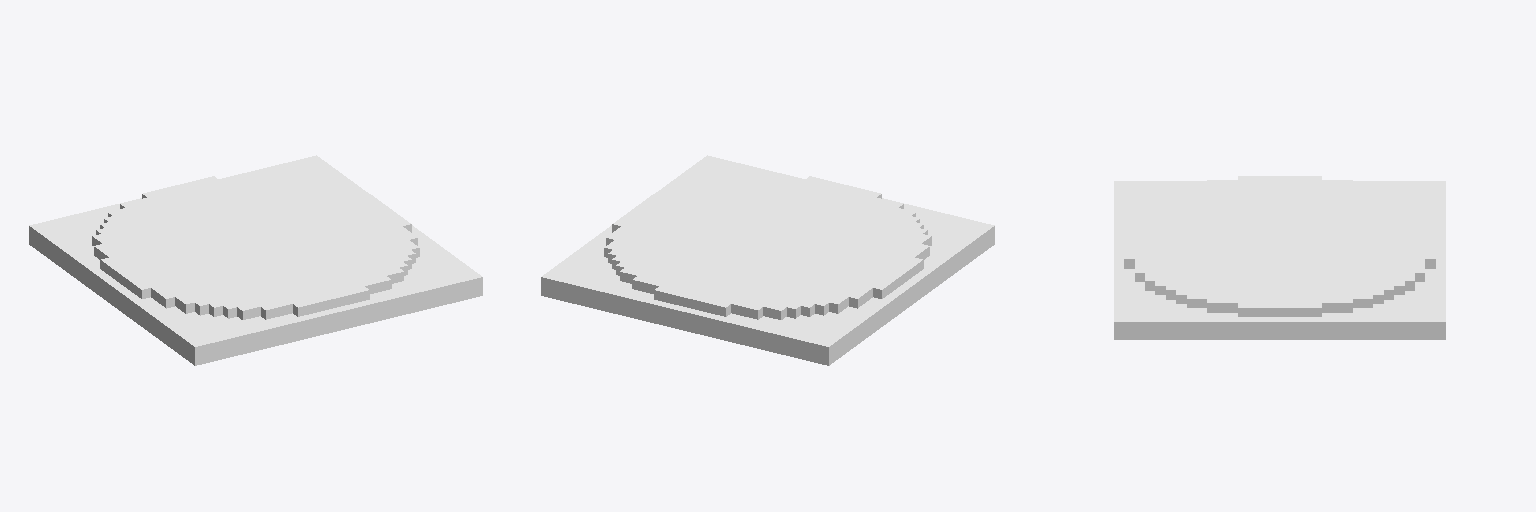
File: carground1.obj
3 views of the same model, side by side, from view 1: azimuth 30°, elevation 25°; view 2: azimuth 150°, elevation 25°; view 3: azimuth 270°, elevation 25° (orthographic).
Visible parts, largest first — view 1: object 1; view 2: object 1; view 3: object 1.
Part boxes in pixels (x1,y1,x2,y2): object 1: (29,155,482,365); object 1: (541,155,994,365); object 1: (1114,176,1445,339).
Bounding box in the file's own units: 3.2 × 0.3 × 3.2.